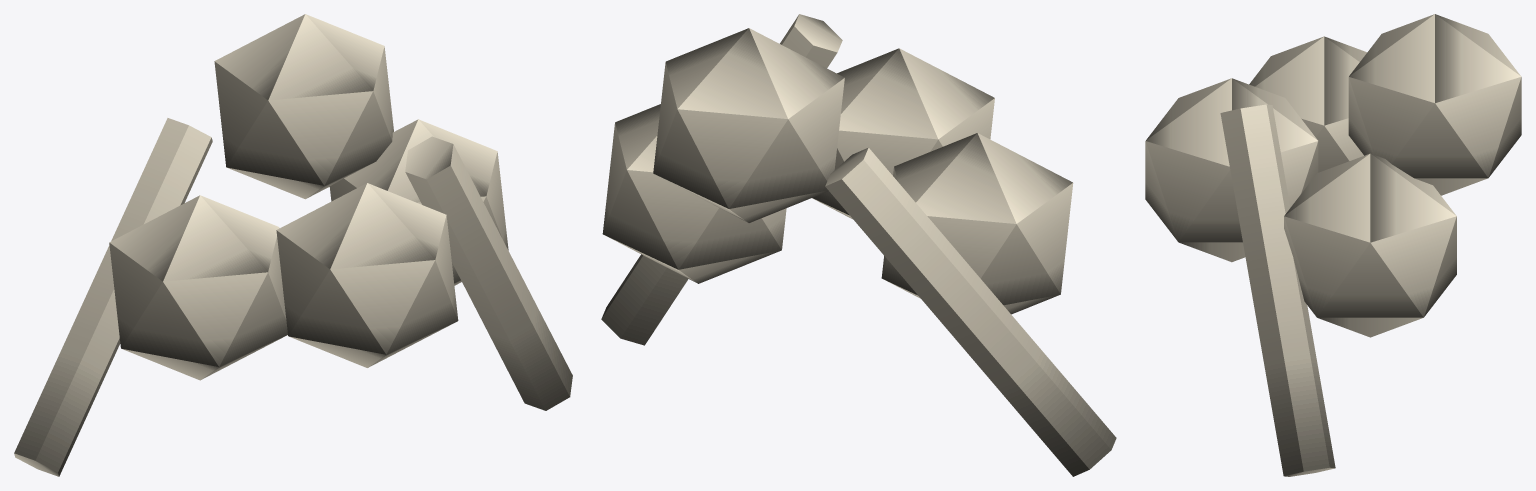
The model's file is bone_pile.glb.
The picture shows the model from 3 angles, left to right: view 1: azimuth 30°, elevation 25°; view 2: azimuth 150°, elevation 25°; view 3: azimuth 270°, elevation 25°; orthographic projection. The views are drawn at different scales.
Visible parts, largest first — view 1: bone_pile; view 2: bone_pile; view 3: bone_pile.
Part boxes in pixels (x1,y1,x2,y2): bone_pile: (14,14,572,476); bone_pile: (601,14,1116,476); bone_pile: (1145,14,1521,476).
Bounding box in the file's own units: 0.6449 × 0.4562 × 0.4071.
1 material, 1 textured.
